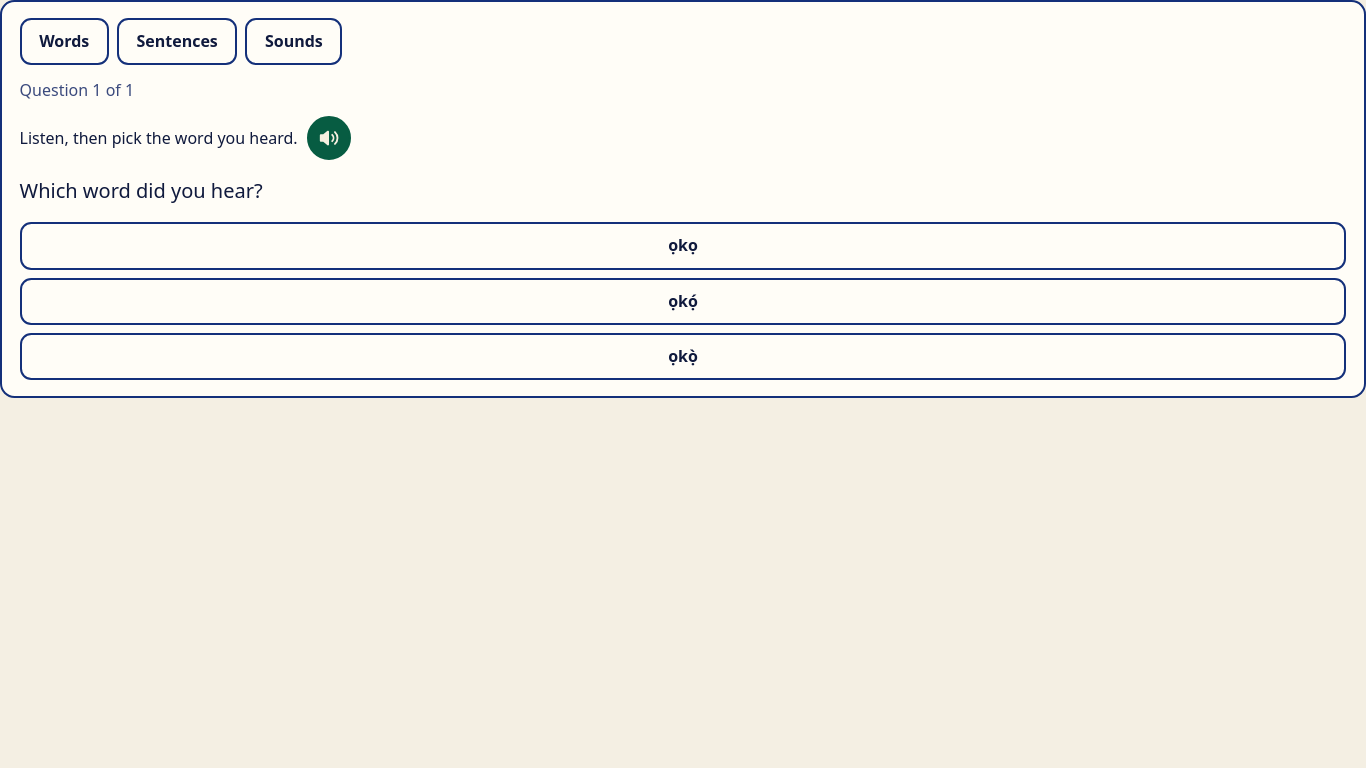
Scenario: TonePractice › shows no Listen button for a wrong choice that has no clip
Click the button with test id "choice" showing "ọkọ́" at x=683, y=301, box [20, 278, 1346, 325]
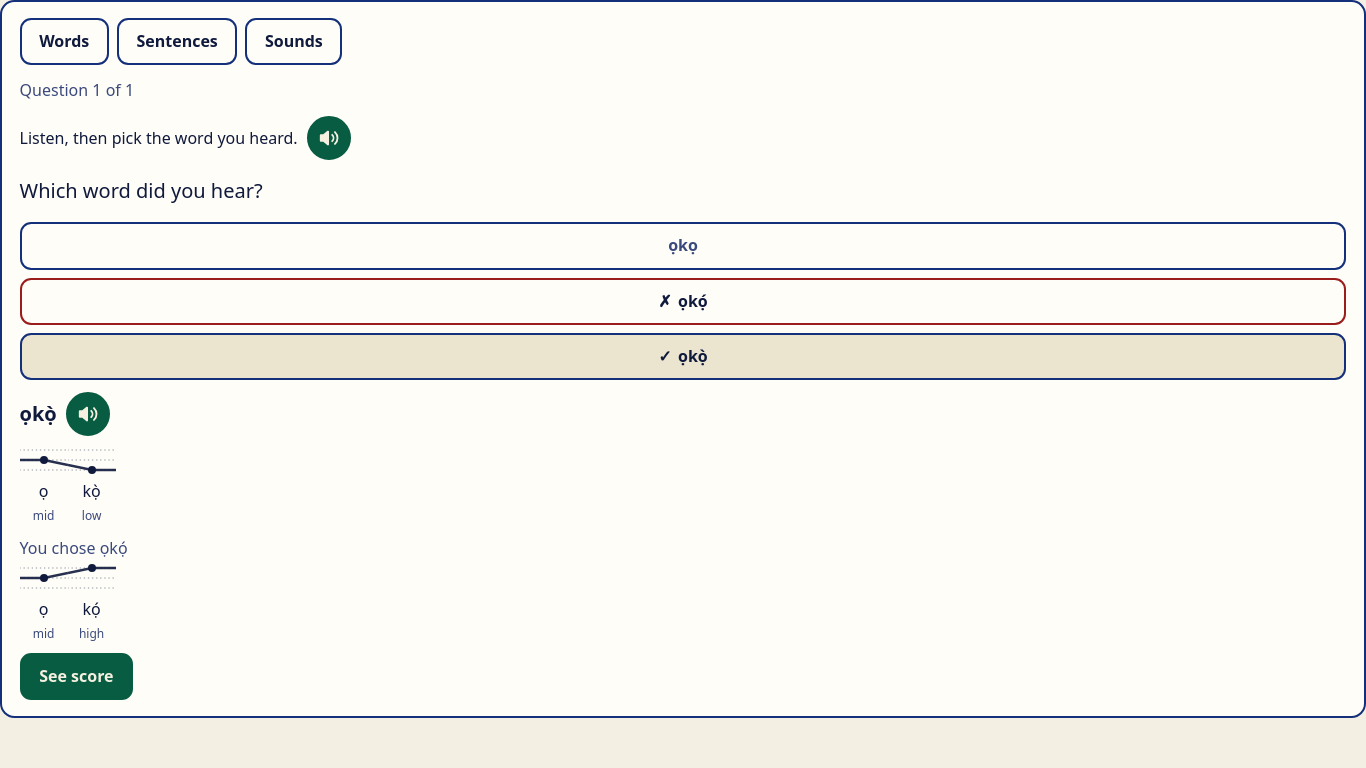
expect the text "You chose ọkọ́" is shown: met, box [20, 535, 128, 562]
